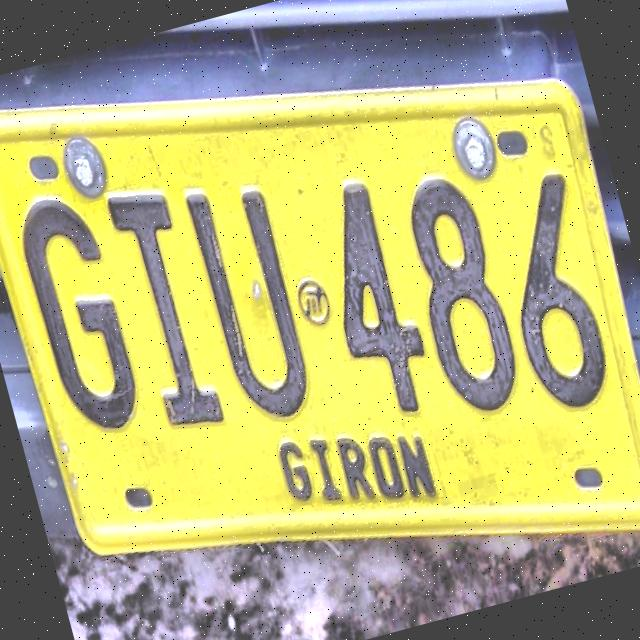plate: (0, 93, 640, 545)
